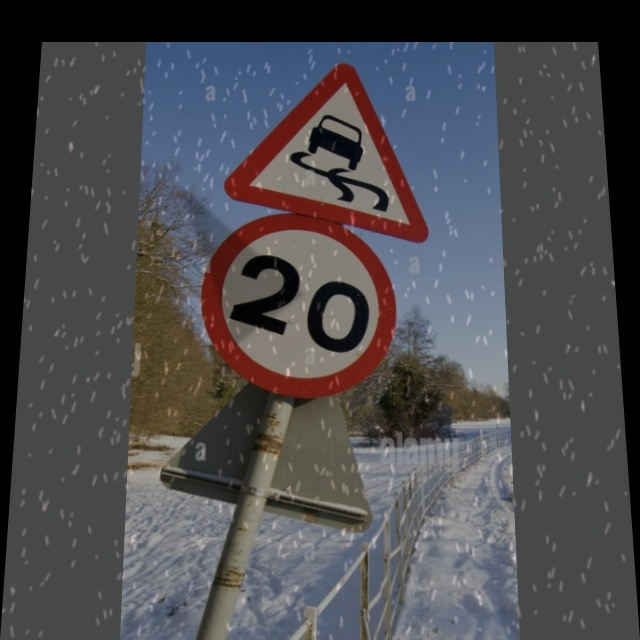Slippery_Road: (229, 64, 424, 230)
